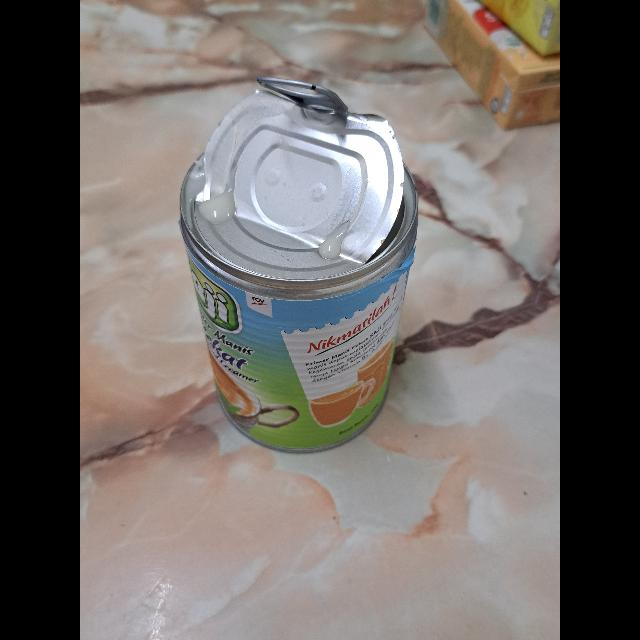aba de lata: (257, 76, 349, 118)
caixinha: (424, 0, 560, 134)
lata: (180, 90, 418, 454)
